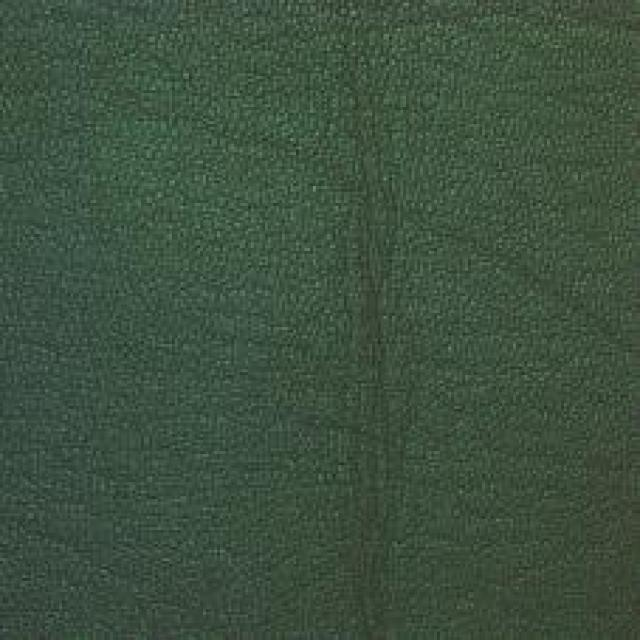Growth Marks: (306, 312, 458, 596), (301, 24, 472, 269)
